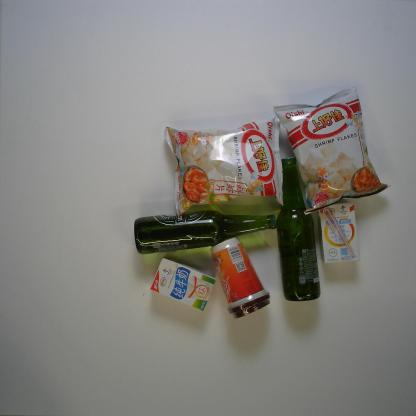Alcohol: (275, 156, 322, 302), (133, 209, 277, 255)
Instant Drink: (210, 236, 271, 320)
Milk: (149, 256, 217, 312), (318, 201, 360, 264)
Puffed Food: (273, 85, 392, 217), (163, 114, 285, 216)
